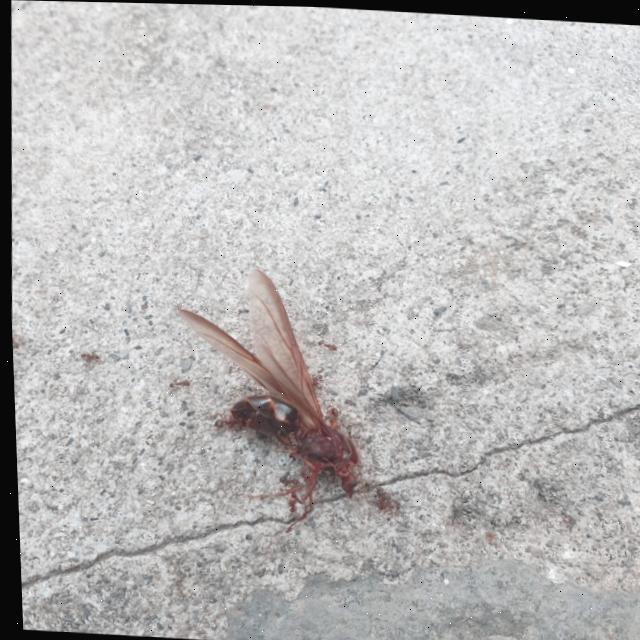Dead-Male-Alate: (167, 263, 377, 537)
